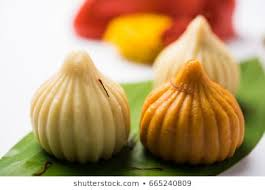modak: (143, 58, 251, 170), (28, 52, 137, 159), (148, 12, 254, 93)
